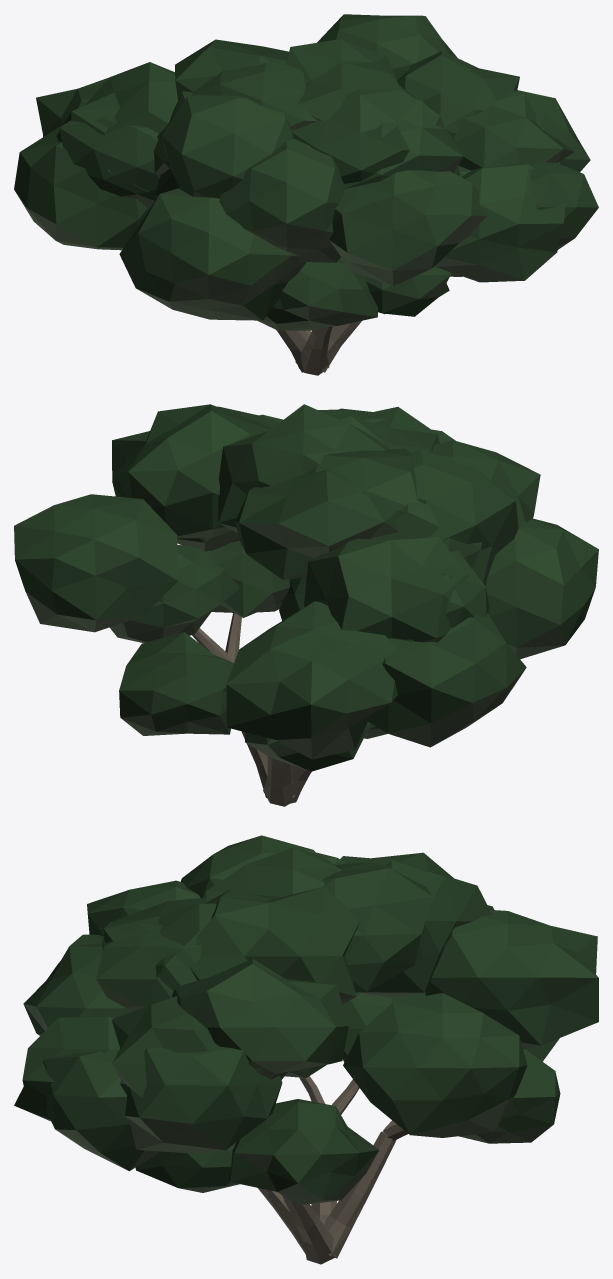
The model's file is pohutukawa.glb.
3 views of the same model, one above another, from view 1: azimuth 30°, elevation 25°; view 2: azimuth 150°, elevation 25°; view 3: azimuth 270°, elevation 25° (orthographic). The views are drawn at different scales.
Visible parts, largest first — view 1: pohutukawa; view 2: pohutukawa; view 3: pohutukawa.
Boxes of the visible parts, x1,y1,x2,y2 form: pohutukawa: [14, 14, 598, 375]; pohutukawa: [14, 404, 598, 806]; pohutukawa: [14, 835, 598, 1264].
Bounding box in the file's own units: 20.69 × 14.3 × 20.95.
